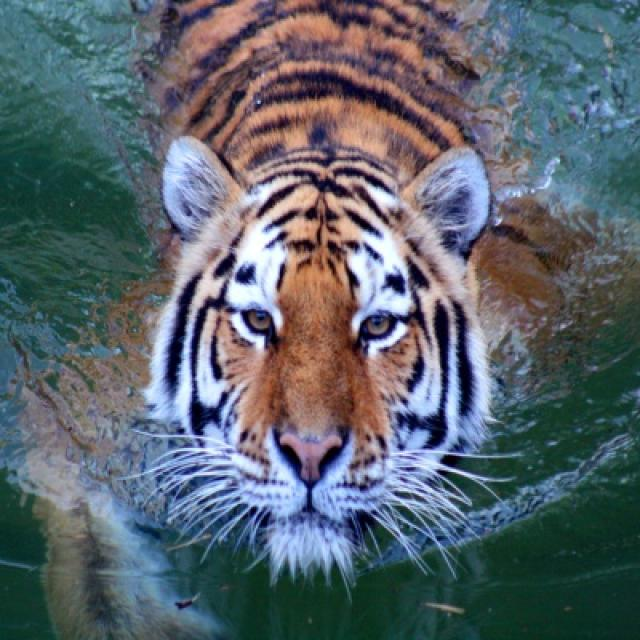Tiger: (154, 8, 526, 532)
